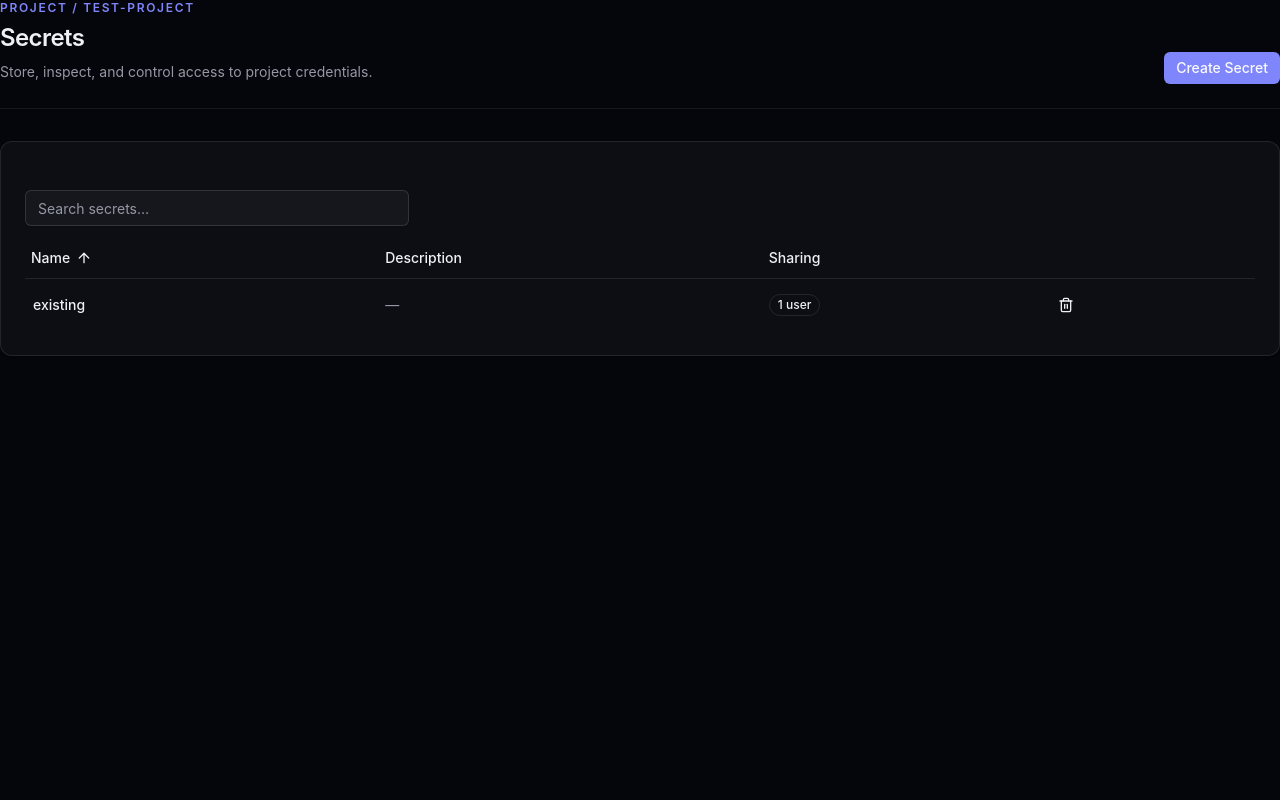
Test: SecretsListPage › shows hint text when project has default grants
This screenshot has width=1280, height=800.
Click the button "Create Secret": (1222, 68) top-left (1164, 52), bottom-right (1279, 84)
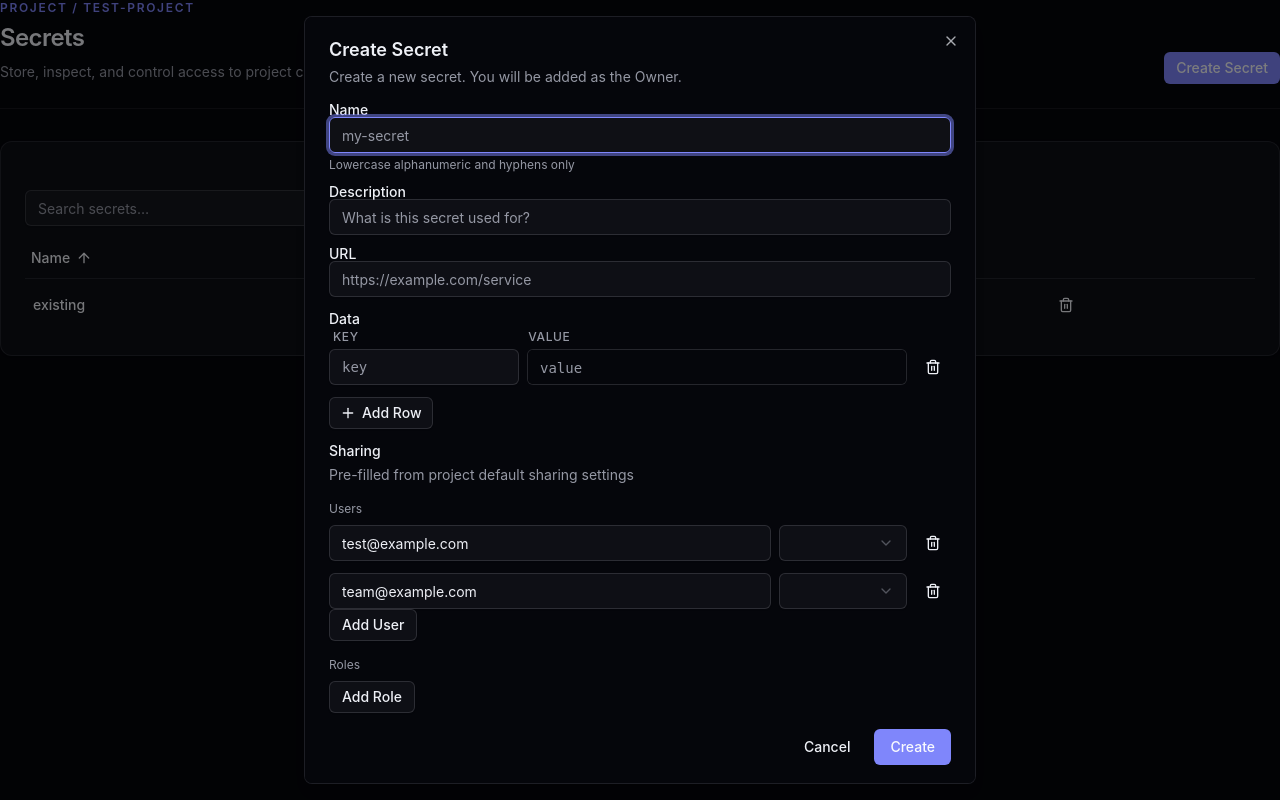
Result: the text "Pre-filled from project default sharing settings" is shown at top-left (329, 466), bottom-right (634, 483)
